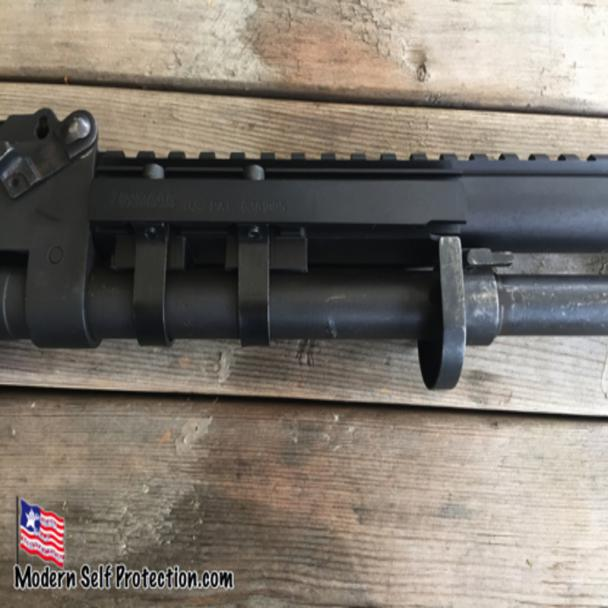Gun: (0, 92, 607, 408)
